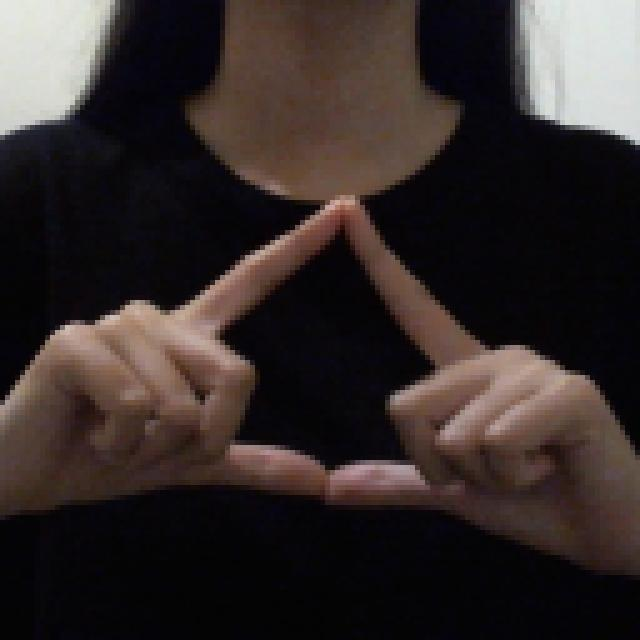A: (0, 196, 640, 575)
